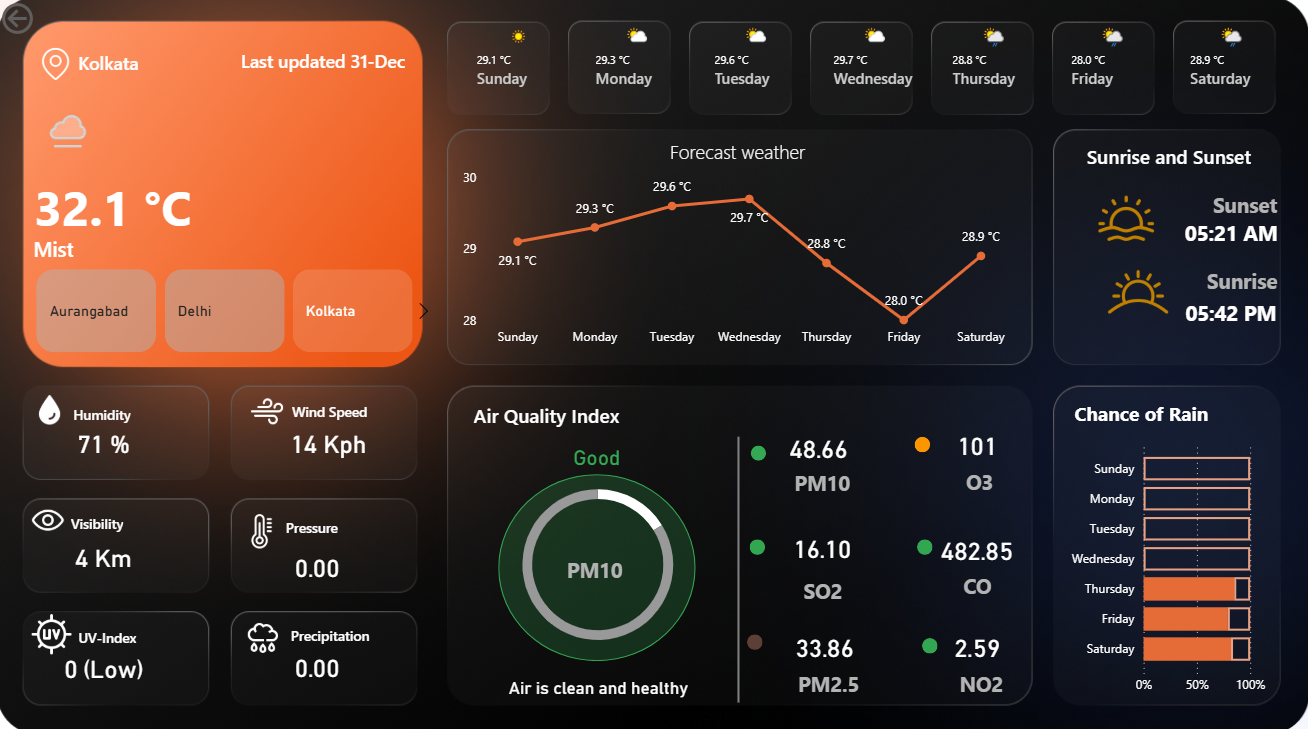

What the dashboard file says about the page in this screenshot:
{"tool":"powerbi","page":{"name":"Page 1","canvas":[1280,720],"ordinal":0},"visuals":[{"type":"shape","box":[489.5,436.5,192.5,210.6],"z":0},{"type":"shape","box":[36.3,139.5,246.9,119.9],"z":1000},{"type":"shape","box":[35.6,214.4,246.7,55.6],"z":2000},{"type":"shape","box":[78.9,37.8,138.9,46.7],"z":3000},{"type":"shape","box":[195.6,34.4,206.7,50],"z":4000},{"type":"image","box":[23.3,43.3,67.8,41.1],"z":5000},{"type":"cardVisual","fields":{"Data":["Min(Current.current.condition.icon)"]},"box":[23.3,84.4,96.7,80],"z":6000},{"type":"image","box":[26.7,486.7,45.6,45.6],"z":7000},{"type":"shape","box":[72.2,493.3,207.8,34.4],"z":8000},{"type":"image","box":[30,382.2,42.2,40],"z":9000},{"type":"image","box":[26.7,595.6,52.2,51.1],"z":10000},{"type":"shape","box":[78.9,604.4,207.8,34.4],"z":11000},{"type":"shape","box":[74.4,387.8,207.8,34.4],"z":12000},{"type":"image","box":[240,382.2,46.7,43.3],"z":13000},{"type":"image","box":[236.7,595.6,45.6,58.9],"z":14000},{"type":"image","box":[236.7,493.3,43.3,52.2],"z":15000},{"type":"shape","box":[286.7,603.3,207.8,34.4],"z":16000},{"type":"shape","box":[282.2,497.8,207.8,34.4],"z":17000},{"type":"shape","box":[287.3,384.9,207.8,33.5],"z":18000},{"type":"advancedSlicerVisual","fields":{"Values":["Forcast_day.Day_name"]},"box":[450,20,818.6,87.1],"z":21000},{"type":"actionButton","box":[0,0,100,40],"z":22000},{"type":"advancedSlicerVisual","fields":{"Values":["Locations.location.name"]},"box":[12.9,260,418.6,91.4],"z":23000},{"type":"lineChart","title":"Forecast weather","fields":{"Y":["Sum(Forcast_day.forecast.forecastday.day.avgtemp_c)"],"Category":["Forcast_day.Day_name"]},"box":[450.5,136.7,545.3,212],"z":24000},{"type":"shape","box":[1022.3,124.1,246.9,55.8],"z":25000},{"type":"shape","box":[1011.1,164.6,246.9,119.9],"z":26000},{"type":"shape","box":[1009.7,242.7,246.9,119.9],"z":27000},{"type":"shape","box":[1011.1,136.7,246.9,119.9],"z":28000},{"type":"shape","box":[1011.1,210.6,246.9,119.9],"z":29000},{"type":"image","box":[956.7,242.7,312.4,87.9],"z":30000},{"type":"image","box":[979,182.7,244.1,64.2],"z":31000},{"type":"hundredPercentStackedBarChart","fields":{"Y":["Sum(Forcast_day.forecast.forecastday.day.daily_chance_of_rain)","_Measures.Left_value_rain"],"Category":["Forcast_day.Day_name"]},"box":[1037.6,422.6,205,265],"z":32000},{"type":"shape","box":[1051.6,340.3,177.1,119.9],"z":33000},{"type":"shape","box":[414.2,376.6,246.9,55.8],"z":34000},{"type":"shape","box":[534.1,495.1,82.3,119.9],"z":35000},{"type":"shape","box":[927.4,410,48.8,119.9],"z":36000},{"type":"shape","box":[587.1,513.2,246.9,119.9],"z":37000},{"type":"shape","box":[895.4,523,80.9,93.4],"z":38000},{"type":"shape","box":[742,617.8,246.9,93.4],"z":39000},{"type":"shape","box":[746.1,617.8,101.8,93.4],"z":40000},{"type":"shape","box":[735,436.5,15,15],"z":41000},{"type":"shape","box":[732.2,620.6,15.3,15.3],"z":42000},{"type":"shape","box":[898.2,528.6,15.3,15.3],"z":43000},{"type":"shape","box":[895.4,428.2,15.3,15.3],"z":44000},{"type":"shape","box":[733.6,528.6,15.3,15.3],"z":45000},{"type":"shape","box":[902.3,624.8,15.3,15.3],"z":46000},{"type":"shape","box":[648.5,428.2,149.2,259.4],"z":47000},{"type":"donutChart","fields":{"Y":["Sum(Current.current.air_quality.pm10)","_Measures.Left_value_pm10"]},"box":[481.2,456,209.2,193.9],"z":48000},{"type":"shape","box":[755.9,410,82.3,119.9],"z":49000},{"type":"shape","box":[463,663.9,246.9,55.8],"z":50000},{"type":"card","fields":{"Values":["Sum(Current.current.air_quality.pm10)"]},"box":[711.3,382.1,181.3,115.8],"z":51000},{"type":"card","fields":{"Values":["Sum(Current.current.air_quality.o3)"]},"box":[866.1,379.3,181.3,115.8],"z":52000},{"type":"card","fields":{"Values":["Sum(Current.current.air_quality.so2)"]},"box":[714.1,479.8,181.3,115.8],"z":53000},{"type":"card","fields":{"Values":["Sum(Current.current.air_quality.pm2_5)"]},"box":[716.8,576,181.3,115.8],"z":54000},{"type":"card","fields":{"Values":["Sum(Current.current.air_quality.co)"]},"box":[866.1,481.2,181.3,115.8],"z":55000},{"type":"card","fields":{"Values":["Sum(Current.current.air_quality.no2)"]},"box":[866.1,576,181.3,115.8],"z":56000},{"type":"card","fields":{"Values":["_Measures.Hum"]},"box":[13.9,376.6,181.3,115.8],"z":57000},{"type":"card","fields":{"Values":["_Measures.Visibility"]},"box":[13.9,488.1,181.3,115.8],"z":58000},{"type":"card","fields":{"Values":["_Measures.UV_Index_Status"]},"box":[13.9,596.9,181.3,115.8],"z":59000},{"type":"card","fields":{"Values":["_Measures.Wind_Speed"]},"box":[232.9,376.6,181.3,115.8],"z":60000},{"type":"card","fields":{"Values":["Sum(Current.current.precip_in)"]},"box":[221.7,497.9,181.3,115.8],"z":61000},{"type":"card","fields":{"Values":["Sum(Current.current.precip_in)"]},"box":[221.7,595.5,181.3,115.8],"z":61001}]}

Visuals, with their boxes in screenshot pixels (x1, y1, x2, y2), scaled from the page's 1280x720 canvas onto the 1308x729 screenshot:
shape: (500, 442, 697, 655)
shape: (37, 141, 289, 263)
shape: (36, 217, 288, 273)
shape: (81, 38, 223, 86)
shape: (200, 35, 411, 85)
image: (24, 44, 93, 85)
cardVisual - Min(Current.current.condition.icon): (24, 85, 123, 166)
image: (27, 493, 74, 539)
shape: (74, 499, 286, 534)
image: (31, 387, 74, 427)
image: (27, 603, 81, 655)
shape: (81, 612, 293, 647)
shape: (76, 393, 288, 427)
image: (245, 387, 293, 431)
image: (242, 603, 288, 663)
image: (242, 499, 286, 552)
shape: (293, 611, 505, 646)
shape: (288, 504, 501, 539)
shape: (294, 390, 506, 424)
advancedSlicerVisual - Forcast_day.Day_name: (460, 20, 1296, 108)
actionButton: (0, 0, 102, 40)
advancedSlicerVisual - Locations.location.name: (13, 263, 441, 356)
"Forecast weather" lineChart: (460, 138, 1018, 353)
shape: (1045, 126, 1297, 182)
shape: (1033, 167, 1286, 288)
shape: (1032, 246, 1284, 367)
shape: (1033, 138, 1286, 260)
shape: (1033, 213, 1286, 335)
image: (978, 246, 1297, 335)
image: (1000, 185, 1250, 250)
hundredPercentStackedBarChart - Sum(Forcast_day.forecast.forecastday.day.daily_chance_of_rain) x _Measures.Left_value_rain: (1060, 428, 1270, 696)
shape: (1075, 345, 1256, 466)
shape: (423, 381, 676, 438)
shape: (546, 501, 630, 623)
shape: (948, 415, 998, 537)
shape: (600, 520, 852, 641)
shape: (915, 530, 998, 624)
shape: (758, 626, 1011, 720)
shape: (762, 626, 866, 720)
shape: (751, 442, 766, 457)
shape: (748, 628, 764, 644)
shape: (918, 535, 933, 551)
shape: (915, 434, 931, 449)
shape: (750, 535, 765, 551)
shape: (922, 633, 938, 648)
shape: (663, 434, 815, 696)
donutChart - Sum(Current.current.air_quality.pm10) x _Measures.Left_value_pm10: (492, 462, 706, 658)
shape: (772, 415, 857, 537)
shape: (473, 672, 725, 728)
card - Sum(Current.current.air_quality.pm10): (727, 387, 912, 504)
card - Sum(Current.current.air_quality.o3): (885, 384, 1070, 501)
card - Sum(Current.current.air_quality.so2): (730, 486, 915, 603)
card - Sum(Current.current.air_quality.pm2_5): (732, 583, 918, 700)
card - Sum(Current.current.air_quality.co): (885, 487, 1070, 604)
card - Sum(Current.current.air_quality.no2): (885, 583, 1070, 700)
card - _Measures.Hum: (14, 381, 199, 499)
card - _Measures.Visibility: (14, 494, 199, 611)
card - _Measures.UV_Index_Status: (14, 604, 199, 722)
card - _Measures.Wind_Speed: (238, 381, 423, 499)
card - Sum(Current.current.precip_in): (227, 504, 412, 621)
card - Sum(Current.current.precip_in): (227, 603, 412, 720)
